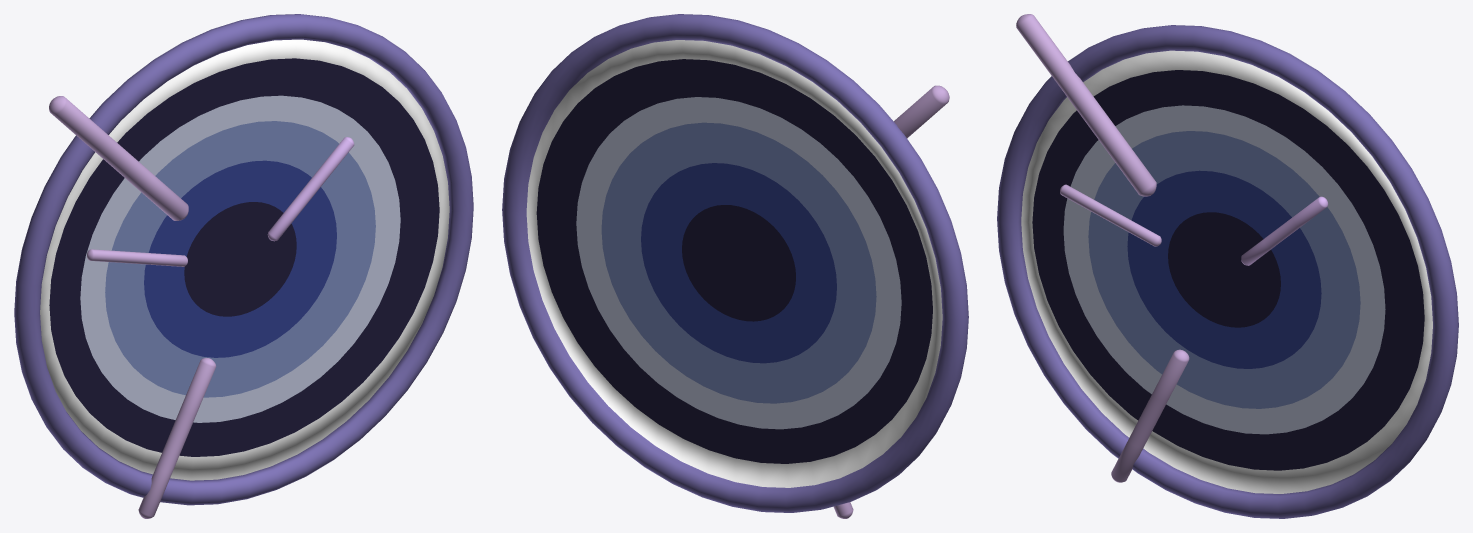
Rendered from BlackHole.fbx.
The picture shows the model from 3 angles, left to right: view 1: azimuth 30°, elevation 25°; view 2: azimuth 150°, elevation 25°; view 3: azimuth 330°, elevation 25°; orthographic projection.
Visible parts, largest first — view 1: Torus.006, Cylinder.004, Cylinder.006, Cylinder.007, Cylinder.005; view 2: Torus.006, Cylinder.004; view 3: Torus.006, Cylinder.004, Cylinder.006, Cylinder.005, Cylinder.007.
Part boxes in pixels (left/top/right/bottom): Torus.006: left=14, top=14, right=473, bottom=505; Cylinder.004: left=49, top=96, right=188, bottom=220; Cylinder.006: left=138, top=358, right=216, bottom=518; Cylinder.007: left=267, top=137, right=354, bottom=241; Cylinder.005: left=87, top=249, right=187, bottom=266; Torus.006: left=502, top=14, right=968, bottom=512; Cylinder.004: left=894, top=85, right=949, bottom=138; Torus.006: left=997, top=25, right=1458, bottom=518; Cylinder.004: left=1016, top=14, right=1156, bottom=196; Cylinder.006: left=1111, top=349, right=1189, bottom=482; Cylinder.005: left=1060, top=184, right=1161, bottom=246; Cylinder.007: left=1241, top=196, right=1328, bottom=265.
Size of the model in its own units: 980 by 980 by 73.23.
